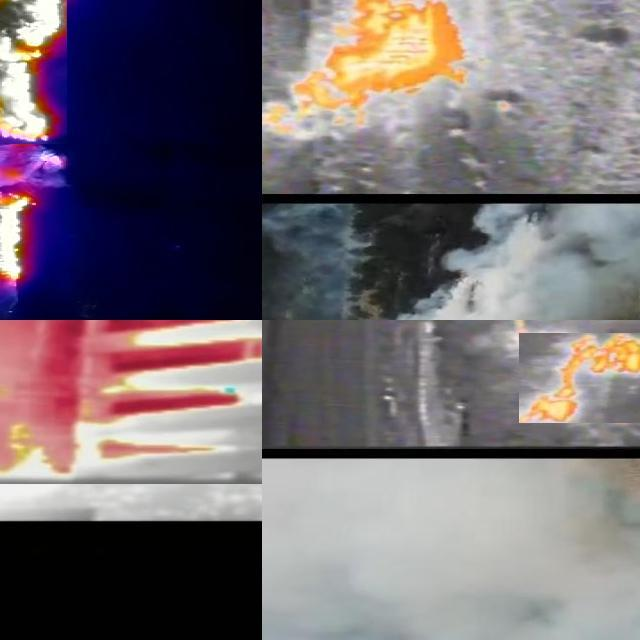fire: (1, 321, 263, 485), (292, 1, 470, 125), (519, 334, 640, 424), (1, 151, 64, 285), (263, 97, 286, 161)
